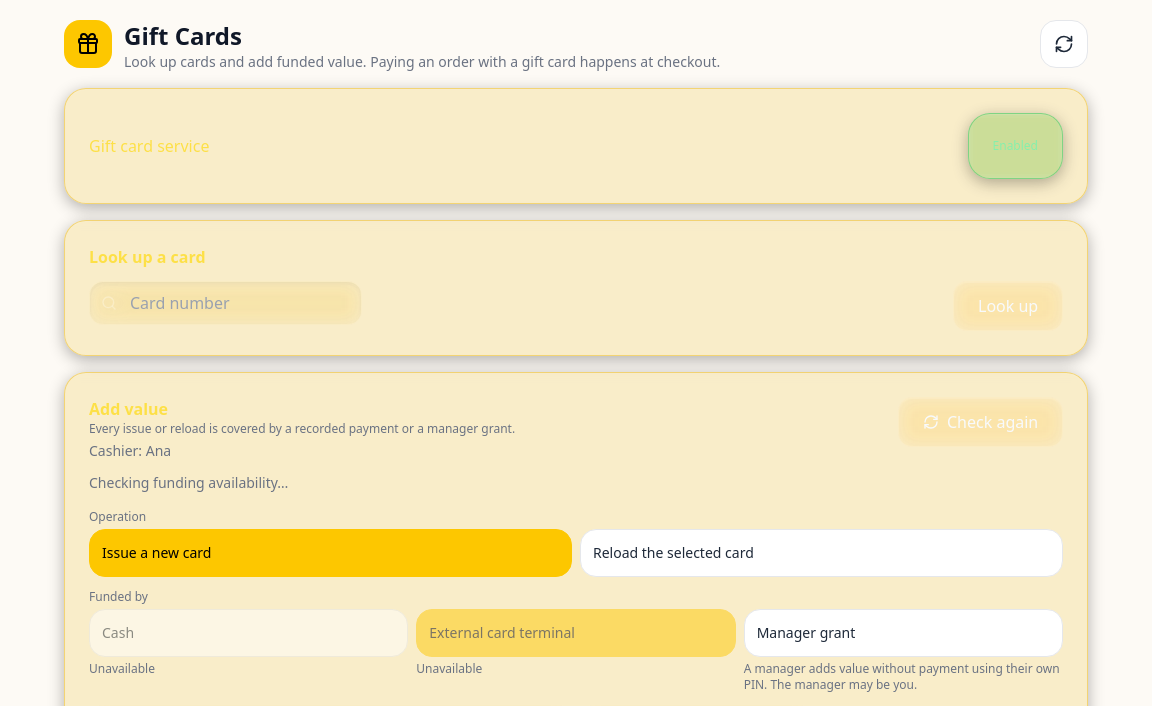
Scenario: GiftCardsPage › looks up a card and shows its masked number, balance, currency, status and history
Expected: the button "Look up" is enabled, left=953, top=281, right=1063, bottom=331
Type "gc12 3456 7788" into the field labelled "Card number" at (226, 303), box left=89, top=281, right=362, bottom=325
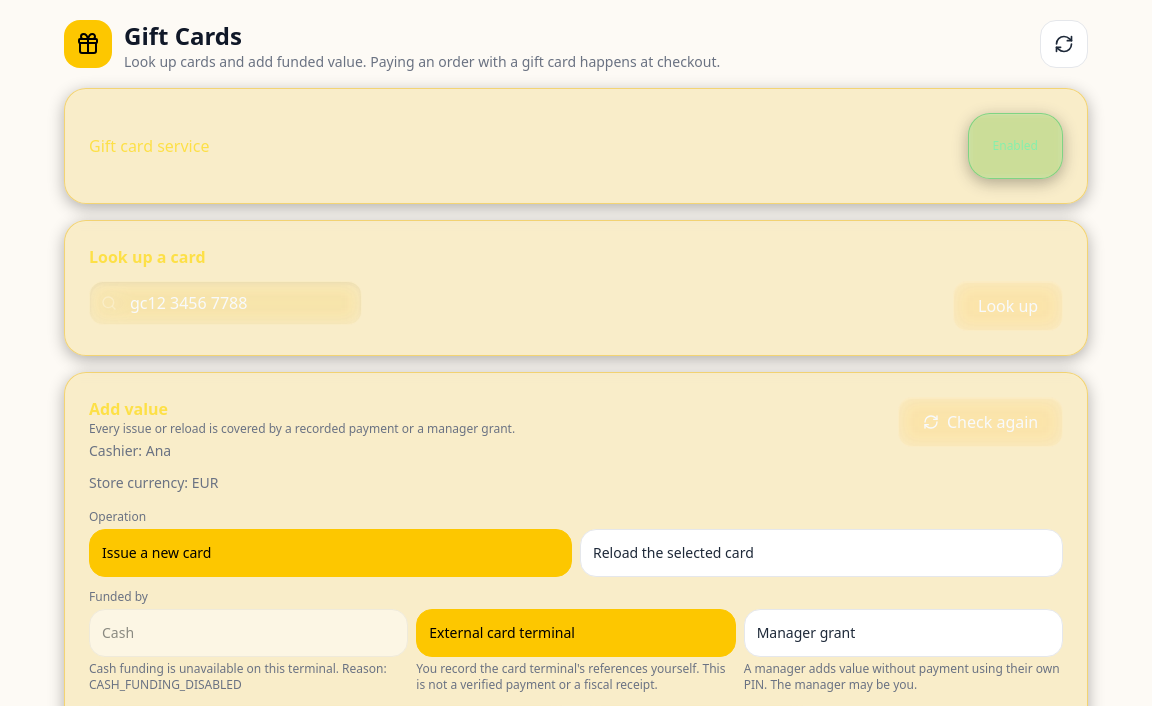
Click the button "Look up" at (1008, 306), box left=953, top=281, right=1063, bottom=331
(page scrolled)
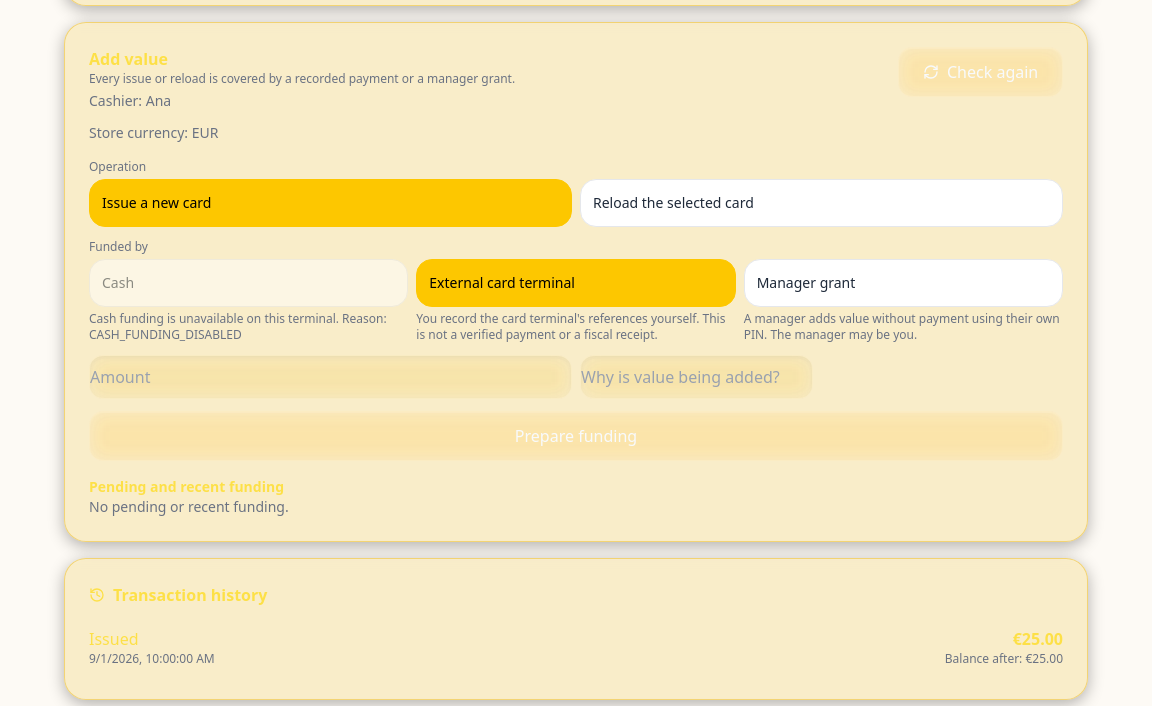
Result: the text "Issued" is shown at left=89, top=628, right=138, bottom=650
